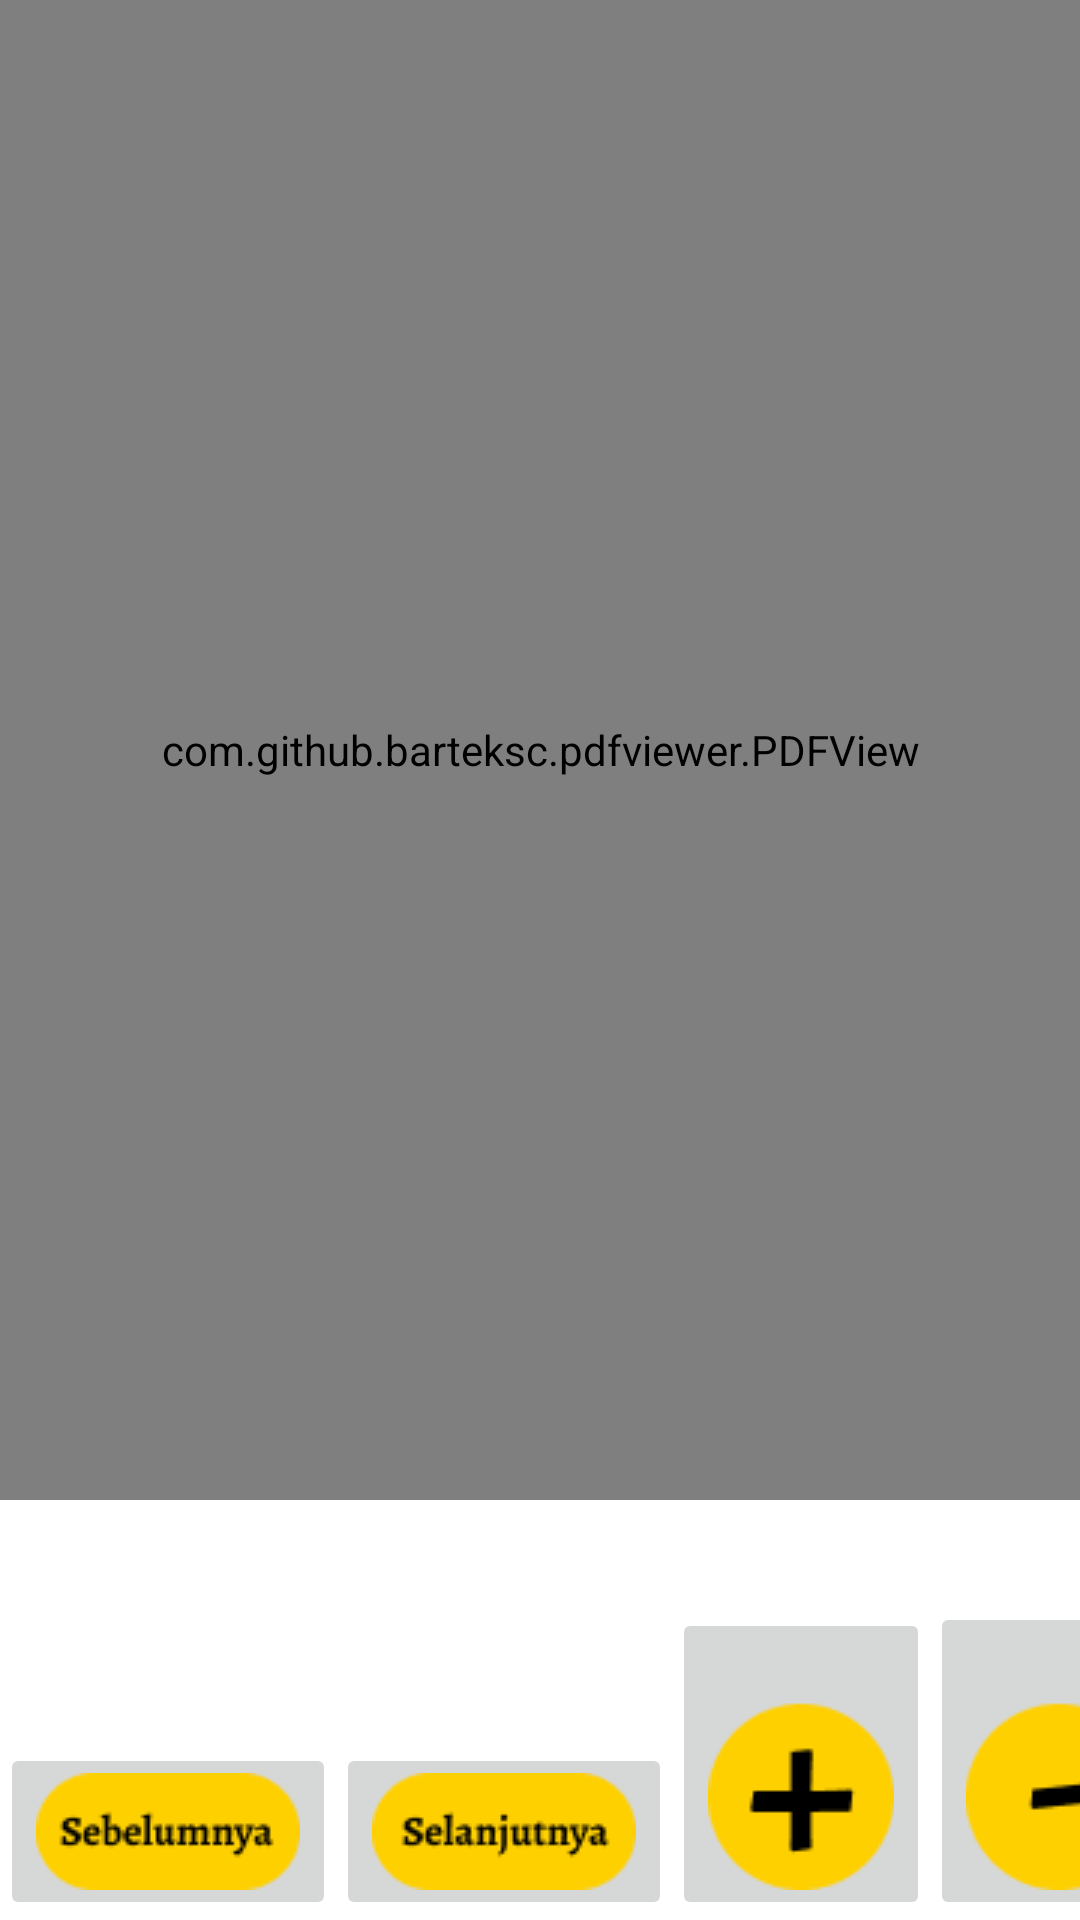

Icon click points for this 1080x1920 phone screenshot, format point (x, y):
zoomin: point (801, 1764)
